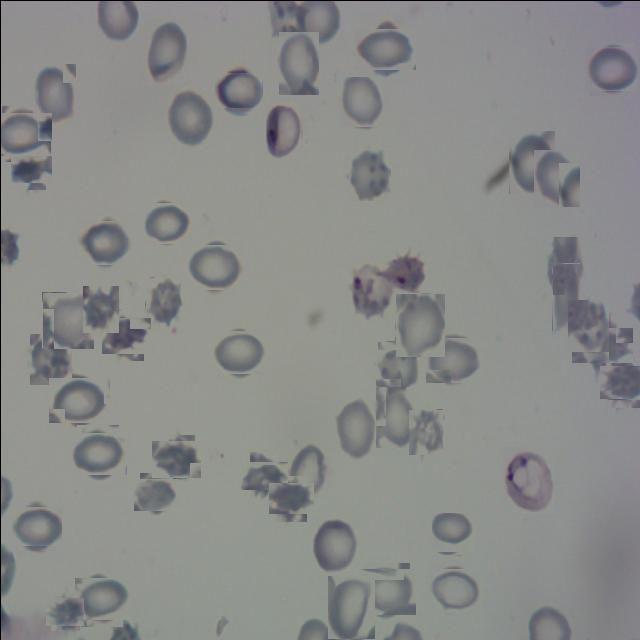leukocyte: (394, 292, 444, 356), (327, 576, 374, 640), (144, 18, 189, 84), (52, 372, 106, 427), (41, 291, 93, 348), (508, 129, 554, 193), (165, 88, 213, 148), (310, 516, 358, 574), (333, 396, 376, 460), (31, 62, 75, 124), (532, 148, 579, 206), (359, 22, 411, 74), (188, 240, 240, 292), (428, 334, 480, 386), (360, 565, 412, 617), (374, 385, 417, 447), (427, 564, 478, 616), (277, 30, 318, 94), (72, 428, 122, 478), (214, 326, 262, 376), (80, 218, 130, 266), (586, 44, 636, 92), (0, 108, 48, 158), (77, 574, 126, 622), (578, 320, 626, 369), (546, 236, 585, 296), (347, 146, 390, 200), (375, 340, 418, 393), (141, 199, 188, 246), (29, 334, 71, 386), (339, 76, 382, 126), (567, 299, 608, 351), (14, 502, 58, 548), (154, 436, 198, 481), (144, 276, 180, 329), (551, 262, 579, 330), (288, 443, 324, 494), (432, 511, 474, 553), (217, 68, 259, 110), (104, 314, 146, 356), (82, 285, 118, 332), (601, 361, 640, 403), (407, 408, 442, 454), (136, 475, 174, 513), (272, 479, 310, 517), (245, 456, 282, 494), (14, 151, 48, 186), (48, 594, 82, 628)
red blood cell: (501, 445, 553, 513), (266, 103, 302, 158)
